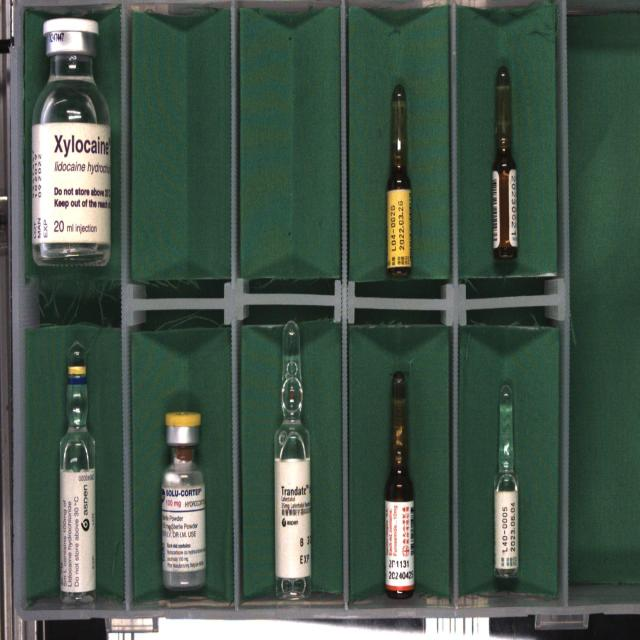Vials: (32, 18, 110, 265), (161, 412, 206, 589)
